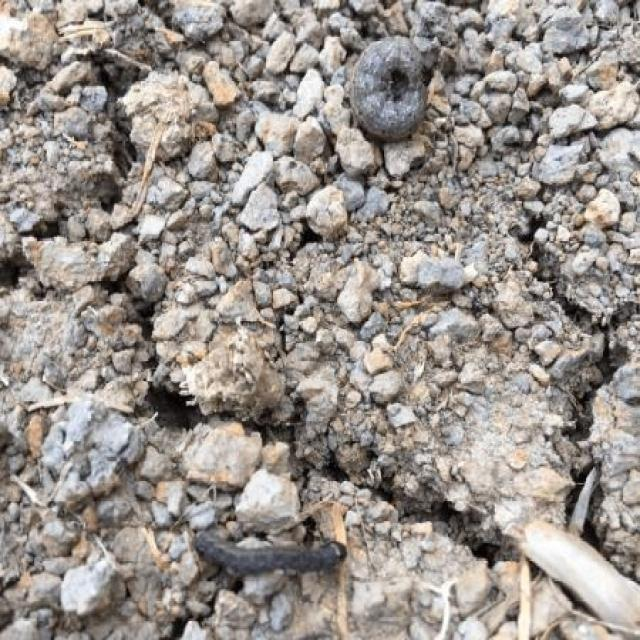black cutworm: (193, 515, 369, 589), (345, 41, 439, 143)
